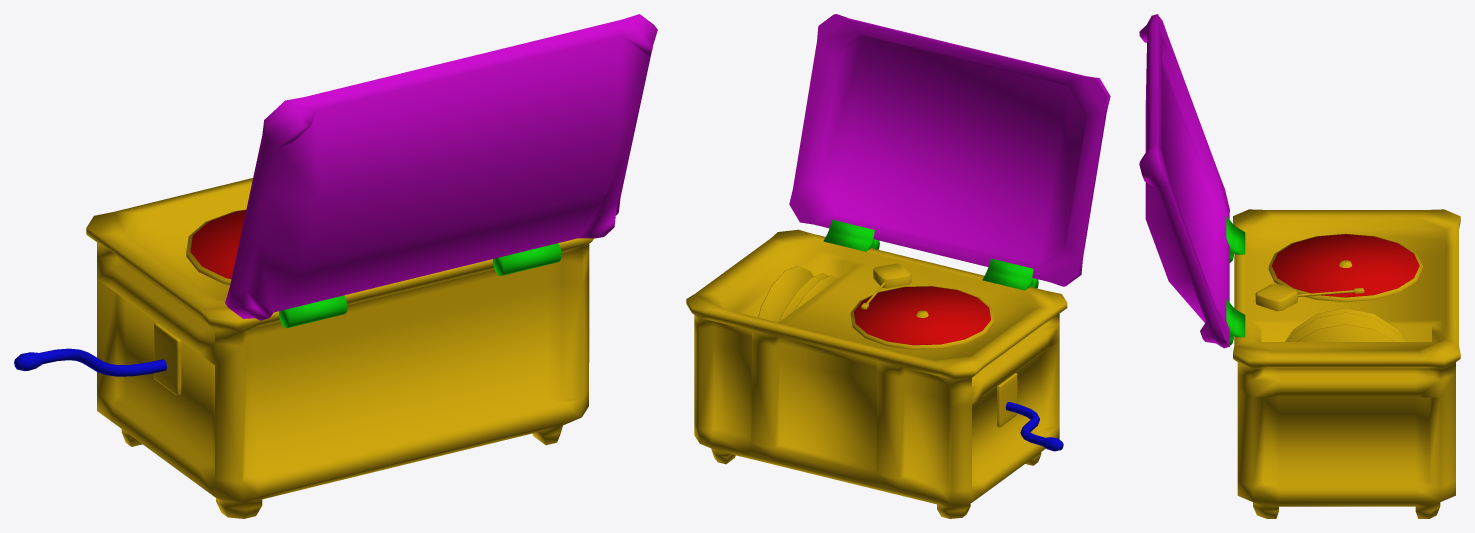
3 views of the same model, side by side, from view 1: azimuth 30°, elevation 25°; view 2: azimuth 150°, elevation 25°; view 3: azimuth 270°, elevation 25° (orthographic). The views are drawn at different scales.
Visible parts, largest first — view 1: Cube, Cube.001, Cylinder.003, Cylinder.004, BezierCurve; view 2: Cube, Cube.001, Cylinder.004, Cylinder.003, BezierCurve; view 3: Cube, Cube.001, Cylinder.004, Cylinder.003.
Boxes of the visible parts, box(x1,y1,x2,y2) form: Cube: box(86, 178, 593, 518); Cube.001: box(225, 14, 657, 320); Cylinder.003: box(279, 243, 561, 327); Cylinder.004: box(190, 210, 246, 279); BezierCurve: box(14, 348, 166, 376); Cube: box(686, 229, 1067, 518); Cube.001: box(789, 14, 1110, 286); Cylinder.004: box(854, 286, 990, 345); Cylinder.003: box(823, 219, 1038, 290); BezierCurve: box(1005, 402, 1063, 451); Cube: box(1233, 209, 1460, 518); Cube.001: box(1139, 14, 1229, 348); Cylinder.004: box(1272, 234, 1419, 297); Cylinder.003: box(1220, 216, 1245, 346).
Size of the model in its own units: 451 by 419 by 328.
